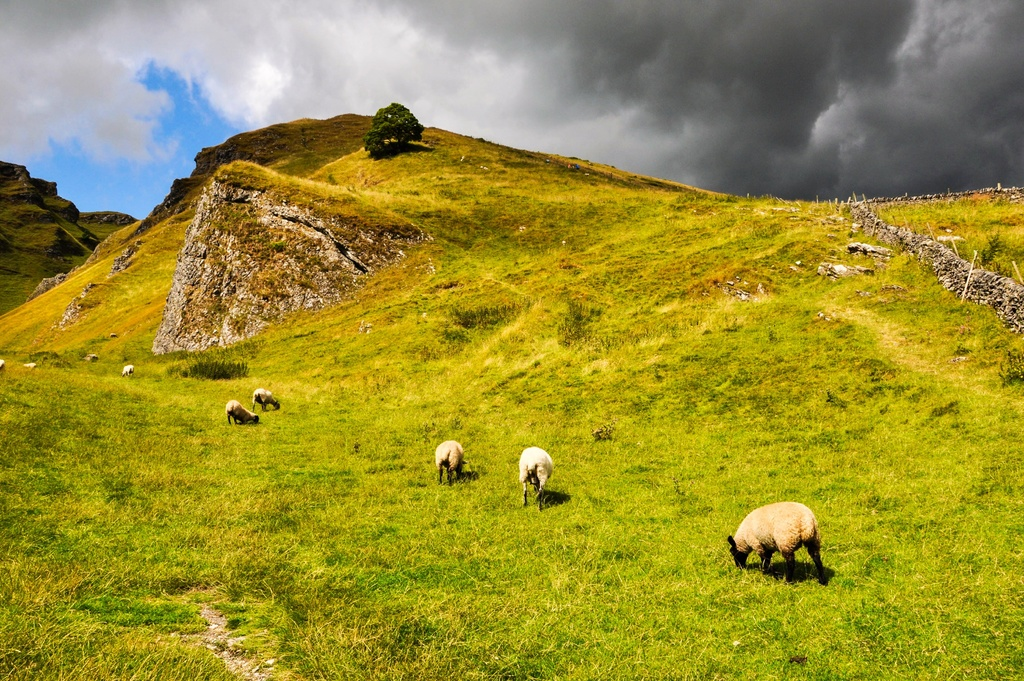sheep: (723, 492, 828, 584), (522, 443, 552, 509), (435, 439, 465, 488), (224, 397, 259, 426), (251, 389, 280, 412)
